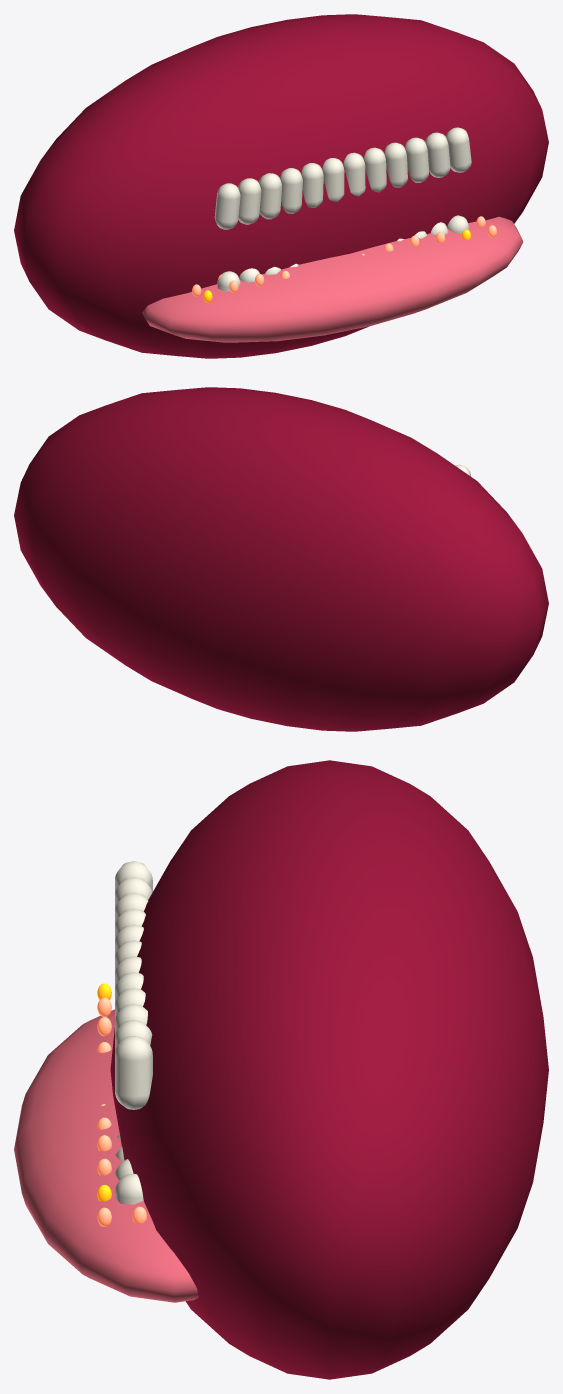
File: mouth-interior-environment.glb
3 renders of one model, top to bottom at view 1: azimuth 30°, elevation 25°; view 2: azimuth 150°, elevation 25°; view 3: azimuth 270°, elevation 25°, orthographic. The views are drawn at different scales.
Parts seen in each view (by area): view 1: gum-cavity, tongue, tooth-0-0, tooth-0-1, tooth-0-11, tooth-0-10, tooth-0-2, tooth-0-3, tooth-0-9, tooth-0-8, tooth-0-4, tooth-0-7 (+2 smaller); view 2: gum-cavity; view 3: gum-cavity, tongue, tooth-0-11.
Part boxes in pixels (x1,y1,x2,y2): gum-cavity: (14, 14, 548, 358); tongue: (142, 216, 523, 342); tooth-0-0: (214, 183, 240, 229); tooth-0-1: (238, 178, 261, 224); tooth-0-11: (446, 127, 471, 172); tooth-0-10: (425, 132, 450, 177); tooth-0-2: (259, 173, 281, 219); tooth-0-3: (280, 168, 302, 213); tooth-0-9: (405, 137, 428, 182); tooth-0-8: (384, 142, 407, 187); tooth-0-4: (301, 163, 323, 207); tooth-0-7: (364, 147, 386, 192); gum-cavity: (14, 387, 548, 731); gum-cavity: (110, 760, 548, 1379); tongue: (14, 1009, 198, 1302); tooth-0-11: (115, 1036, 152, 1109).
Size of the model in its own units: 3.2 by 1.8 by 1.83.
